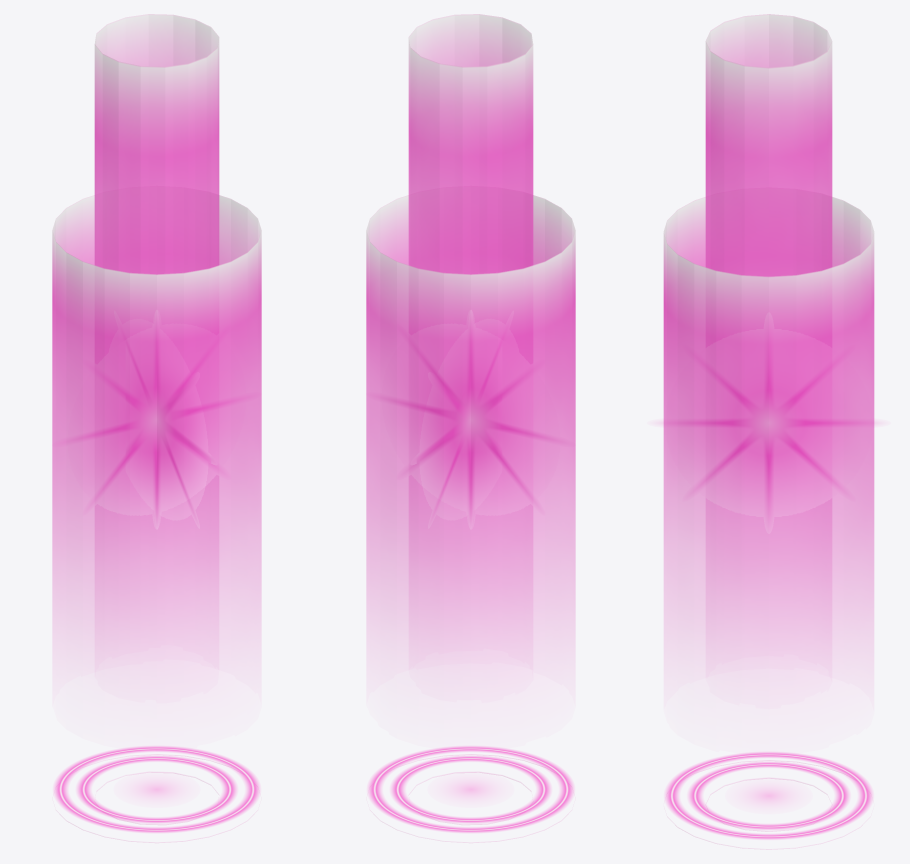
The model's file is fx_up_aura.glb.
3 views of the same model, side by side, from view 1: azimuth 30°, elevation 25°; view 2: azimuth 150°, elevation 25°; view 3: azimuth 270°, elevation 25° (orthographic).
Parts seen in each view (by area): view 1: fx_up_pillar, fx_up_star, fx_up_ring; view 2: fx_up_pillar, fx_up_star, fx_up_ring; view 3: fx_up_pillar, fx_up_star, fx_up_ring.
Part boxes in pixels (bbox=[...]): fx_up_pillar: bbox=[52, 14, 261, 842]; fx_up_star: bbox=[64, 347, 239, 517]; fx_up_ring: bbox=[54, 746, 259, 832]; fx_up_pillar: bbox=[366, 14, 575, 842]; fx_up_star: bbox=[387, 342, 563, 516]; fx_up_ring: bbox=[368, 746, 573, 832]; fx_up_pillar: bbox=[663, 14, 874, 849]; fx_up_star: bbox=[661, 352, 876, 510]; fx_up_ring: bbox=[665, 752, 872, 839].
Bounding box in the file's own units: 1.2 × 4 × 1.2.
3 materials, 3 textured.
